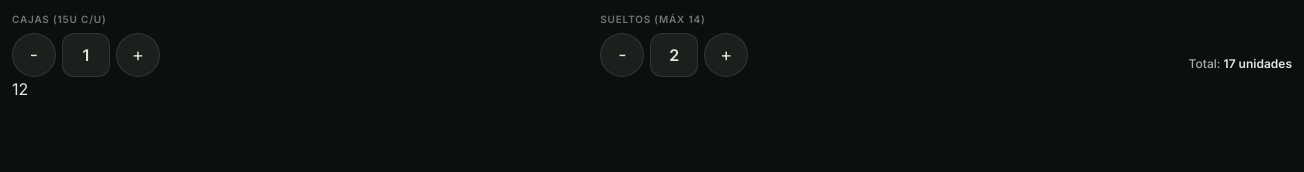
QuantityStepper › suma y resta cajas y sueltos sin ir a negativos
Expected: the text "17 unidades" is shown, [1224,56,1292,71]
Click the button named "Sumar cajas": [138, 55] box [116,33,160,77]
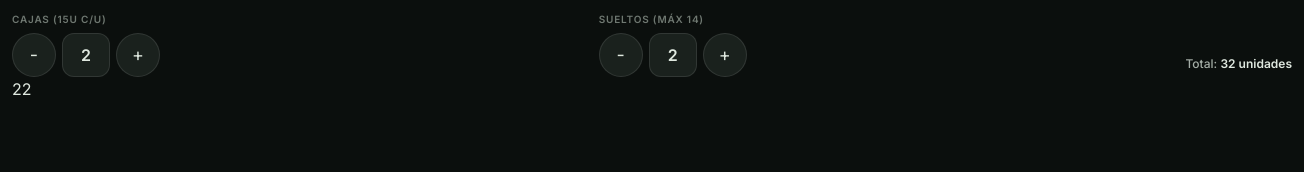
Now the text with test id "cajas" reads "2", box [12,79,22,99]
Now the text "32 unidades" is shown, box [1220,56,1292,71]
Click the button named "Quitar sueltos": [621, 55] box [599,33,643,77]
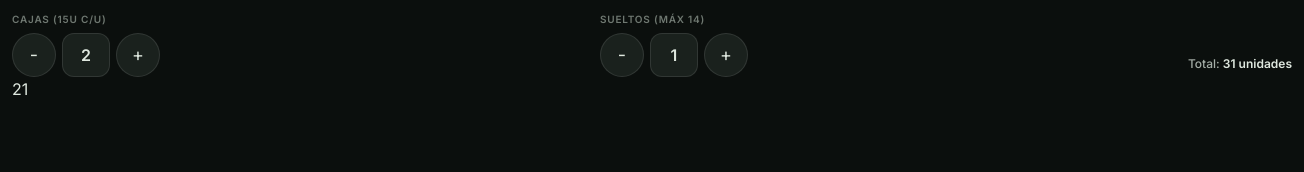
Now the text with test id "sueltos" reads "1", box [22,79,28,99]
Now the text "31 unidades" is shown, box [1223,56,1292,71]
Click the button named "Quitar cajas": [34, 55] box [12,33,56,77]
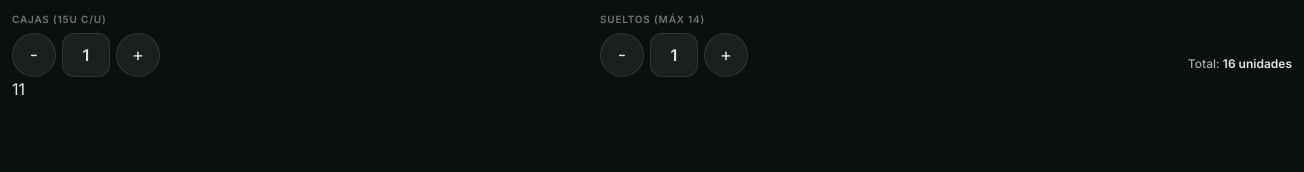
Click the button named "Quitar cajas": [34, 55] box [12,33,56,77]
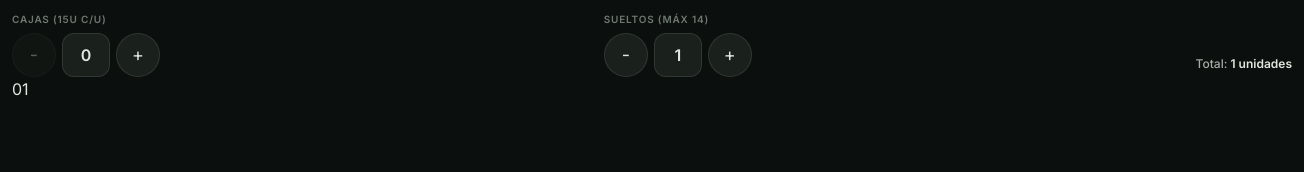
Now the text with test id "cajas" reads "0", box [12,79,22,99]
Now the button named "Quitar cajas" is disabled, box [12,33,56,77]
